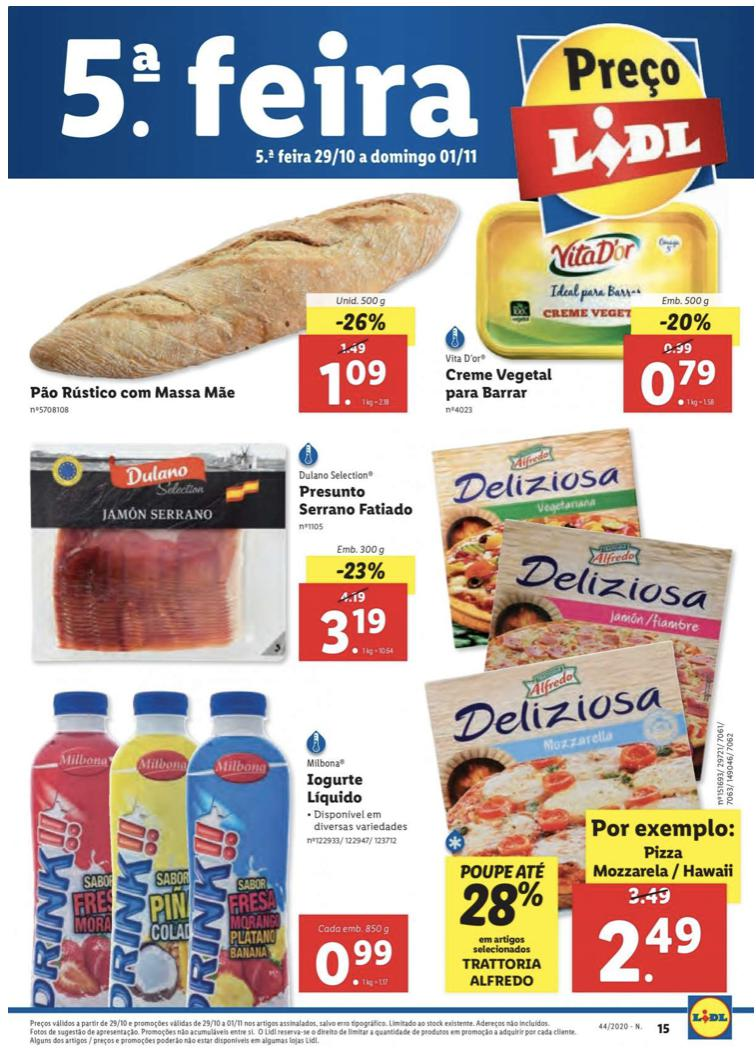name: (441, 364, 555, 404), (298, 482, 415, 517), (29, 384, 241, 403), (302, 771, 366, 808)
price: (589, 910, 705, 985), (636, 355, 719, 410), (310, 938, 398, 989), (316, 359, 396, 408), (318, 608, 391, 656)
product: (424, 434, 746, 1002), (18, 680, 415, 1002), (7, 429, 419, 671), (13, 202, 432, 411), (435, 195, 742, 424)
promotion: (462, 882, 545, 929), (332, 308, 388, 333), (657, 310, 713, 333), (329, 563, 388, 582)
